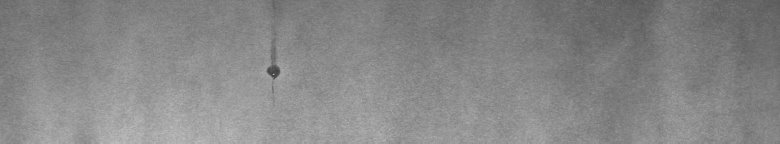fi: (261, 33, 286, 93)
